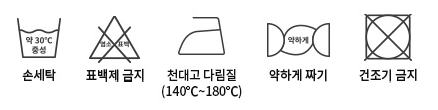KR_gentle_wring: (264, 17, 335, 64)
KR_hand_wash_30_neutral: (15, 13, 63, 63)
KR_no_chlorine_bleach: (85, 14, 146, 66)
KR_no_tumble_dry: (361, 10, 416, 65)
